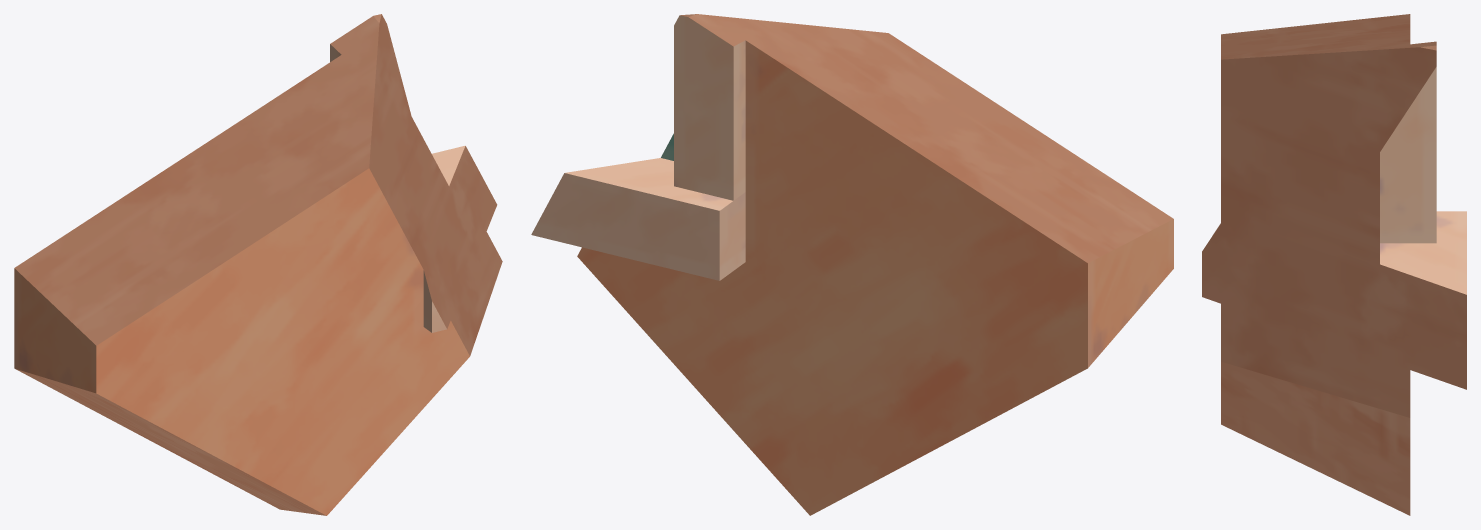
The model's file is wall2_upper_shutter_s07.fbx.
The picture shows the model from 3 angles, left to right: view 1: azimuth 30°, elevation 25°; view 2: azimuth 150°, elevation 25°; view 3: azimuth 270°, elevation 25°; orthographic projection. The views are drawn at different scales.
Parts seen in each view (by area): view 1: wall2_upper_shutter_s07; view 2: wall2_upper_shutter_s07; view 3: wall2_upper_shutter_s07.
Boxes of the visible parts, x1,y1,x2,y2 form: wall2_upper_shutter_s07: (14,14,502,515); wall2_upper_shutter_s07: (531,14,1173,515); wall2_upper_shutter_s07: (1202,14,1466,515).
Size of the model in its own units: 3.57 by 3.09 by 1.4.
